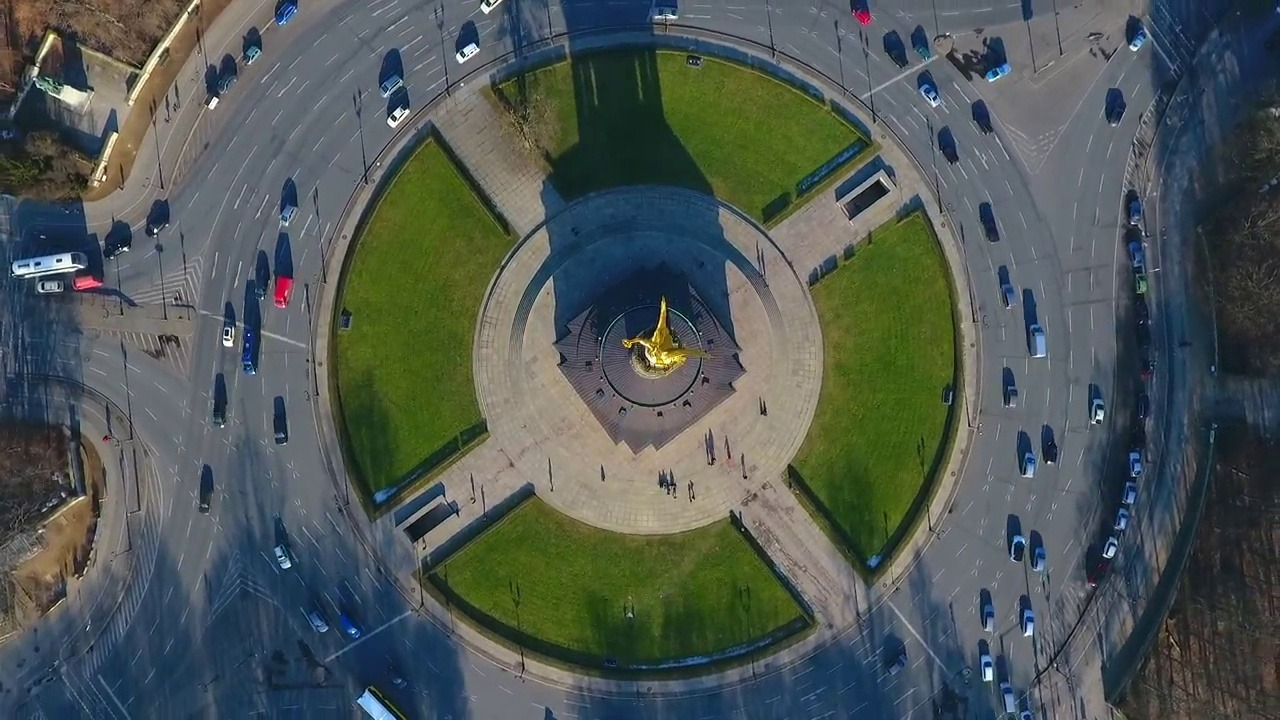bus: (6, 246, 95, 281)
car: (995, 681, 1024, 720), (914, 79, 946, 113), (382, 98, 417, 129), (980, 58, 1017, 85), (1083, 393, 1110, 430), (451, 37, 481, 70), (996, 278, 1022, 316), (974, 648, 999, 687), (33, 273, 71, 298), (276, 195, 302, 231), (375, 70, 407, 98), (1118, 477, 1143, 512), (1015, 605, 1038, 642), (1124, 235, 1147, 272), (1002, 379, 1025, 415), (219, 317, 241, 354), (270, 541, 296, 572), (305, 605, 331, 635), (1124, 446, 1146, 481), (884, 652, 910, 681), (645, 3, 684, 22), (981, 601, 1001, 638), (1127, 25, 1151, 55), (1100, 535, 1124, 565), (1029, 543, 1051, 575), (1020, 448, 1039, 485), (1109, 505, 1133, 532)
van: (1026, 317, 1052, 365)
